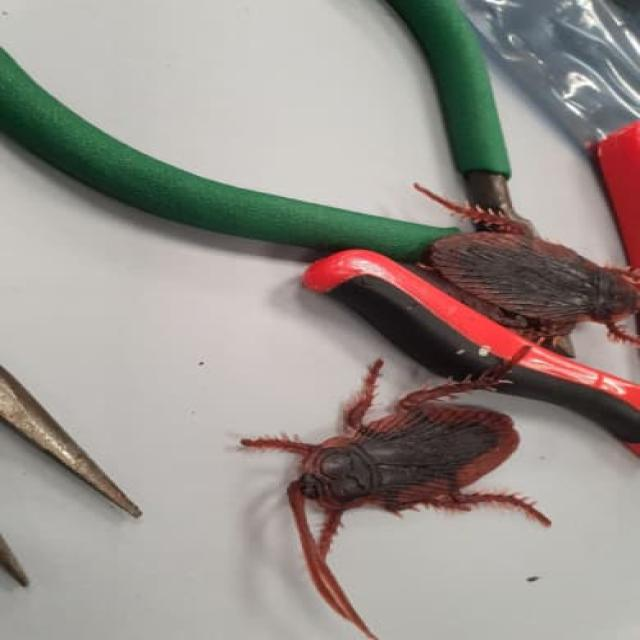Cockroach: (202, 351, 556, 609), (389, 155, 640, 389)
